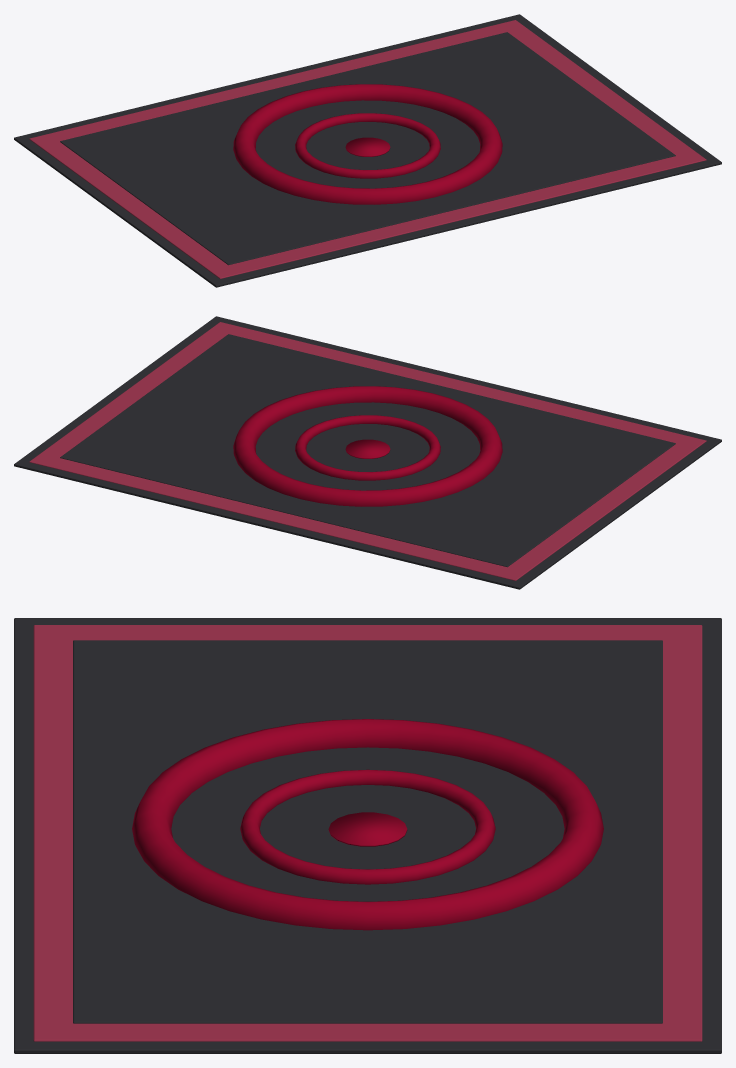
File: rug_blood_ring.glb
3 renders of one model, top to bottom at view 1: azimuth 30°, elevation 25°; view 2: azimuth 150°, elevation 25°; view 3: azimuth 270°, elevation 25°, orthographic. The views are drawn at different scales.
Visible parts, largest first — view 1: GD_rug_blood_ring__m0, GD_rug_blood_ring__m1, GD_rug_blood_ring__m2; view 2: GD_rug_blood_ring__m0, GD_rug_blood_ring__m1, GD_rug_blood_ring__m2; view 3: GD_rug_blood_ring__m0, GD_rug_blood_ring__m1, GD_rug_blood_ring__m2.
Boxes of the visible parts, x1,y1,x2,y2 form: GD_rug_blood_ring__m0: (14,14,721,287); GD_rug_blood_ring__m1: (29,20,706,278); GD_rug_blood_ring__m2: (233,84,502,204); GD_rug_blood_ring__m0: (14,316,721,589); GD_rug_blood_ring__m1: (29,322,706,580); GD_rug_blood_ring__m2: (233,386,502,506); GD_rug_blood_ring__m0: (14,618,721,1053); GD_rug_blood_ring__m1: (33,625,702,1041); GD_rug_blood_ring__m2: (132,719,603,930).
Bounding box in the file's own units: 2.6 × 0.1 × 1.8.
